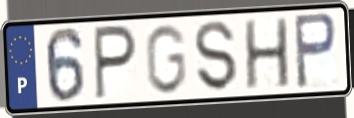6: (43, 25, 86, 105)
G: (143, 22, 188, 97)
H: (242, 15, 293, 92)
P: (292, 10, 340, 91), (92, 23, 139, 103)
S: (192, 19, 240, 94)
